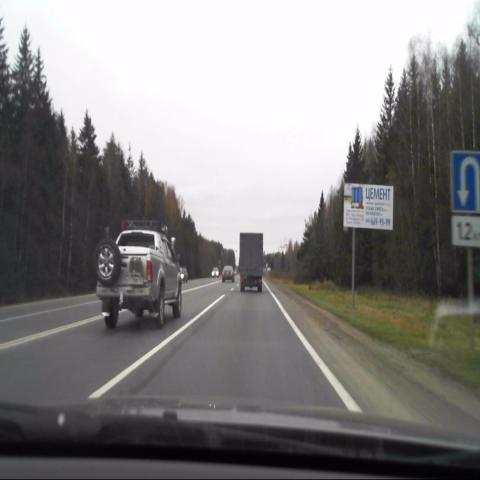6_3_1: (451, 151, 480, 213)
8_1_1: (452, 217, 480, 247)
